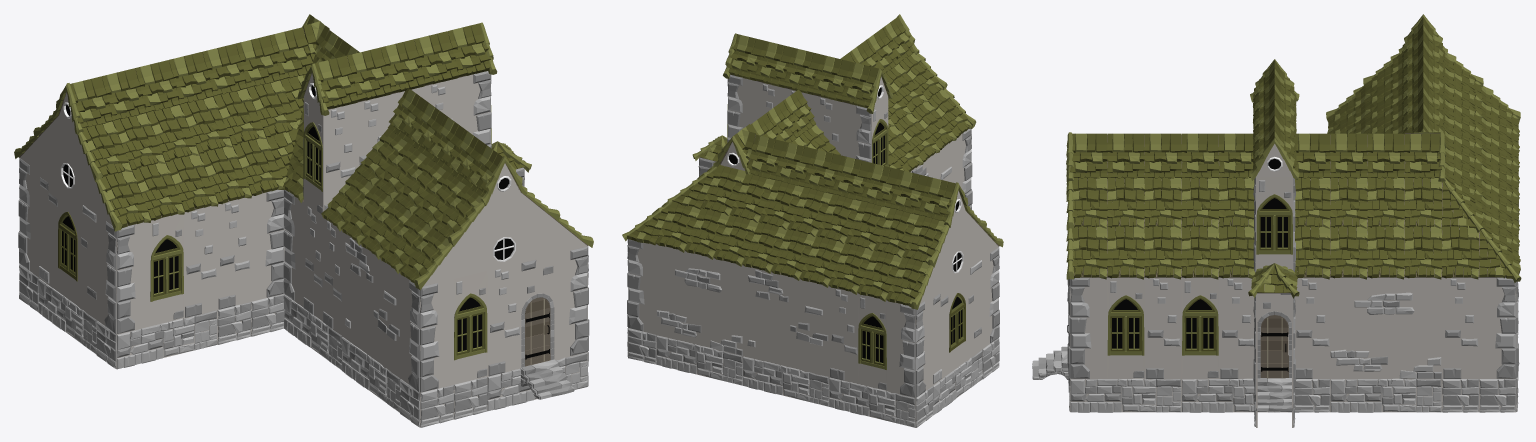
File: hOUSE_12.fbx
3 views of the same model, side by side, from view 1: azimuth 30°, elevation 25°; view 2: azimuth 150°, elevation 25°; view 3: azimuth 270°, elevation 25° (orthographic). The views are drawn at different scales.
Visible parts, largest first — view 1: WINDOW_02_2, WALL_01_2, WINDOW_01_02, WALL_05_7, WALL_06_16, WALL_07_2, FOUNDATION_03_10, WALL_06_3, WALL_05_2, WALL_06_17, DOOR_01_3, WINDOW_01_07 (+78 smaller); view 2: WALL_03_3, WALL_01_3, WINDOW_02_2, WALL_06_18, FOUNDATION_03_7, FOUNDATION_03_8, FOUNDATION_03_6, WINDOW_01_08, WALL_07_9, WALL_05_9, WALL_07_8, WALL_07_3 (+62 smaller); view 3: WALL_03_2, FOUNDATION_03_5, FOUNDATION_03_3, WINDOW_01_03, WALL_06_4, WALL_06_20, WINDOW_01_04, WALL_05_3, WALL_07_10, WALL_06_15, WALL_06_5, WINDOW_01_05 (+62 smaller).
Boxes of the visible parts, x1,y1,x2,y2 form: WINDOW_02_2: (39, 172, 97, 319); WALL_01_2: (342, 232, 400, 377); WINDOW_01_02: (453, 271, 487, 384); WALL_05_7: (116, 222, 150, 333); WALL_06_16: (183, 206, 217, 317); WALL_07_2: (554, 246, 588, 359); FOUNDATION_03_10: (116, 310, 217, 369); WALL_06_3: (487, 262, 520, 376); WALL_05_2: (420, 279, 453, 392); WALL_06_17: (217, 197, 250, 309); DOOR_01_3: (521, 254, 554, 367); WINDOW_01_07: (150, 214, 183, 325); WALL_03_3: (656, 244, 743, 355); WALL_01_3: (743, 265, 829, 376); WINDOW_02_2: (932, 259, 982, 385); WALL_06_18: (829, 287, 858, 383); FOUNDATION_03_7: (743, 356, 829, 406); FOUNDATION_03_8: (829, 377, 915, 427); FOUNDATION_03_6: (656, 335, 743, 385); WINDOW_01_08: (858, 293, 886, 390); WALL_07_9: (887, 300, 915, 397); WALL_05_9: (627, 239, 656, 334); WALL_07_8: (982, 247, 999, 348); WALL_07_3: (843, 102, 872, 162); WALL_03_2: (1330, 277, 1441, 378); FOUNDATION_03_5: (1330, 378, 1441, 412); FOUNDATION_03_3: (1070, 378, 1181, 412); WINDOW_01_03: (1107, 277, 1144, 378); WALL_06_4: (1144, 277, 1181, 378); WALL_06_20: (1442, 277, 1479, 378); WINDOW_01_04: (1181, 277, 1218, 378); WALL_05_3: (1070, 277, 1107, 378); WALL_07_10: (1479, 277, 1516, 378); WALL_06_15: (1295, 277, 1330, 378); WALL_06_5: (1219, 277, 1254, 378); WINDOW_01_05: (1256, 176, 1292, 269).
Size of the model in its own units: 1132 by 814 by 1316.
